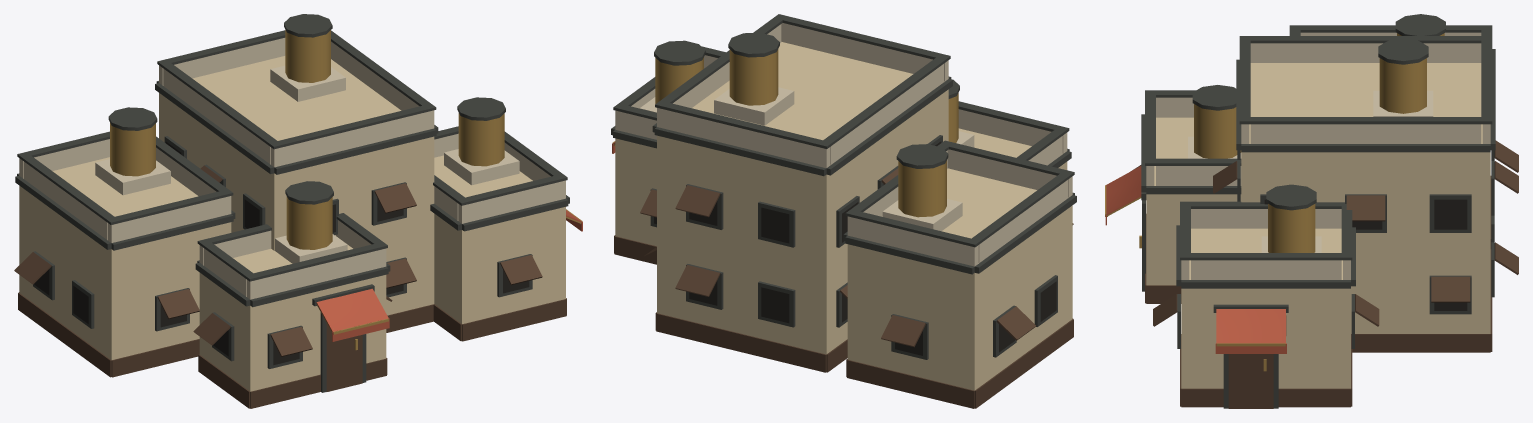
The model's file is lower_block_a.glb.
3 views of the same model, side by side, from view 1: azimuth 30°, elevation 25°; view 2: azimuth 150°, elevation 25°; view 3: azimuth 270°, elevation 25° (orthographic). The views are drawn at different scales.
Parts seen in each view (by area): view 1: lower_block_a; view 2: lower_block_a; view 3: lower_block_a.
Part boxes in pixels (<box>): lower_block_a: <box>14,14,582,408</box>; lower_block_a: <box>611,14,1076,408</box>; lower_block_a: <box>1105,14,1518,408</box>.
Bounding box in the file's own units: 11.5 × 6.08 × 8.3.
